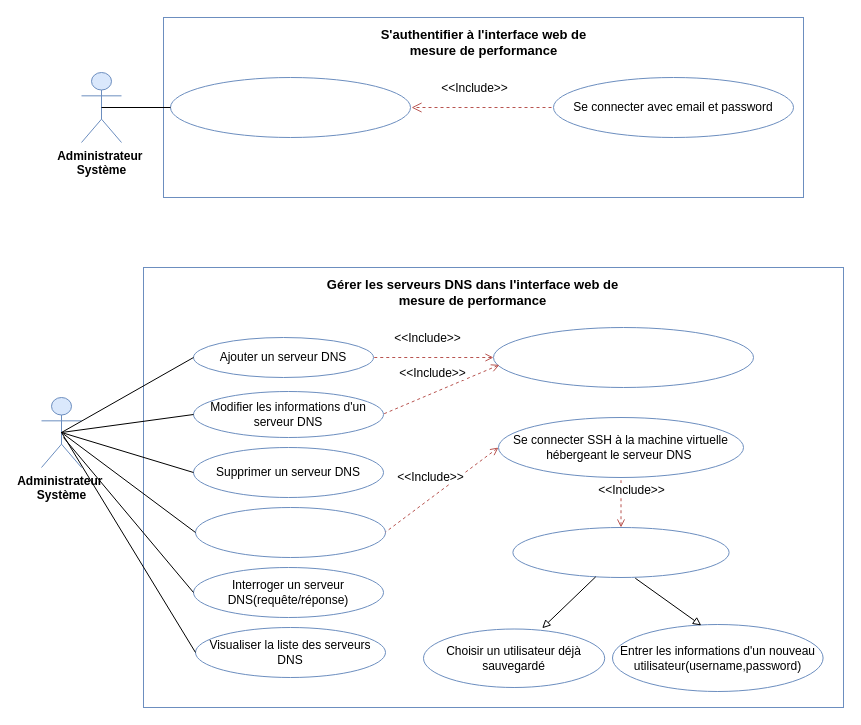
Some shapes in this 861 by 725 pixel diagram are drawn without their labels. Each missing label, with the centre of its shape:
Accéder à un serveur DNS: the point at 290,532
Choisir un utilisateur pour se connecter: the point at 620,552
Créer un compte en renseignant : nom, prénom, adresse email,password: the point at 290,107
Saisir les informations de la machine virtuelle hébergeant le serveur DNS: the point at 623,357
